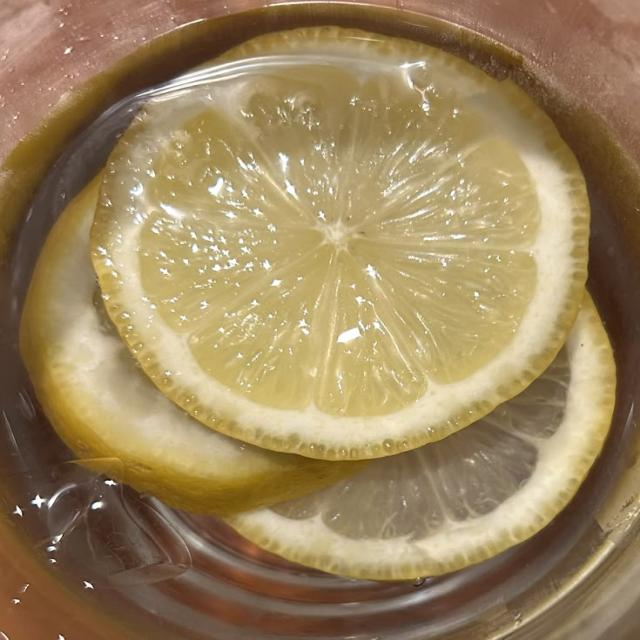lemon: (92, 28, 588, 459), (21, 181, 355, 514), (230, 298, 615, 580)
